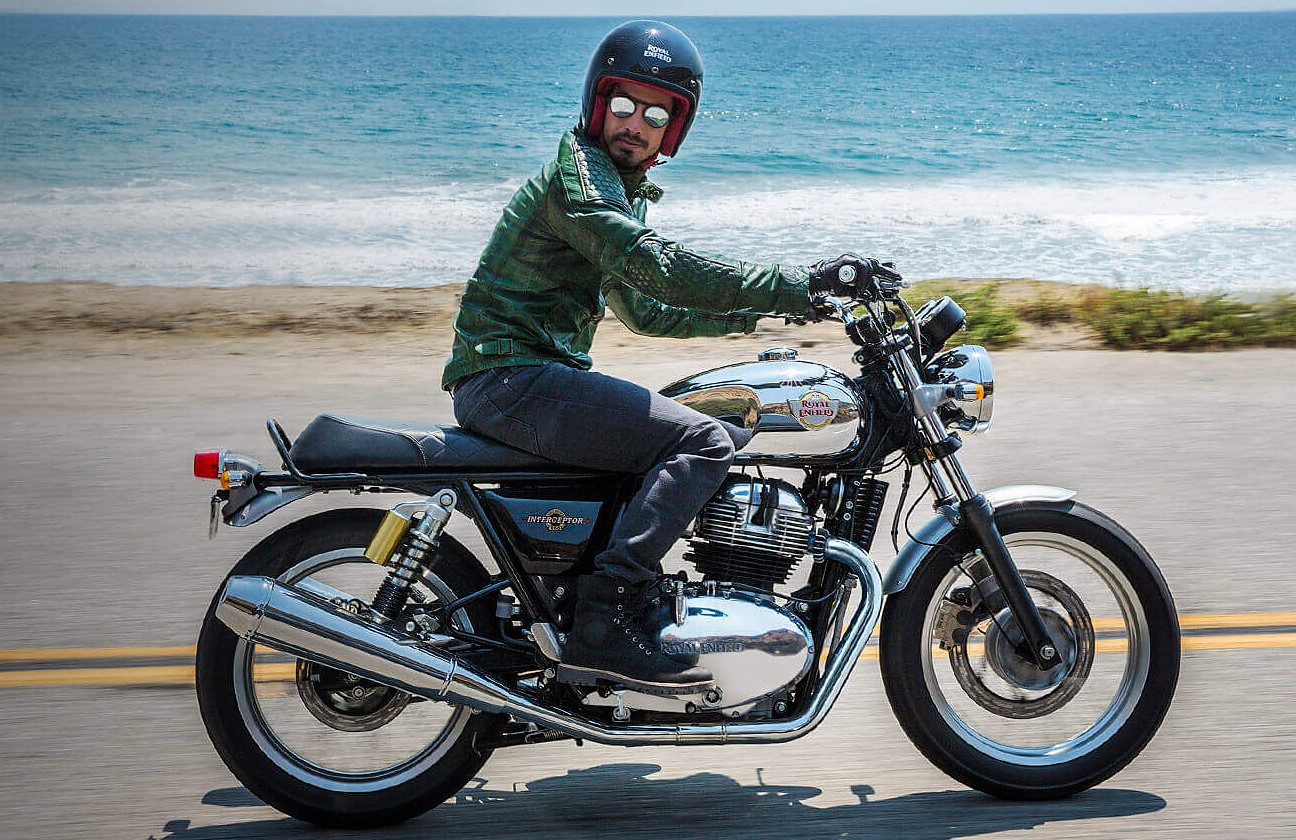bike: (177, 27, 1178, 802)
